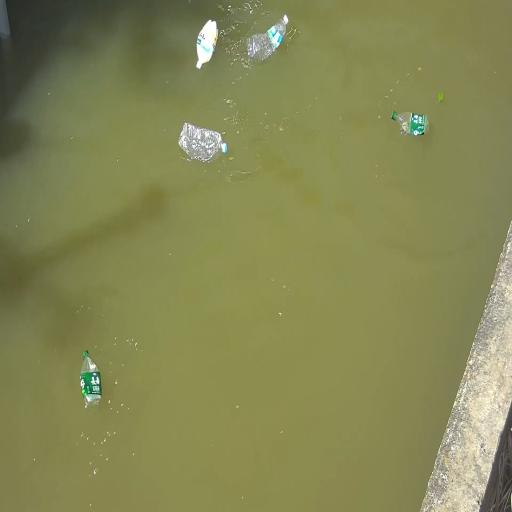plastic: (179, 120, 227, 164), (247, 14, 288, 60), (196, 20, 219, 70), (81, 351, 101, 407), (392, 111, 428, 136)
